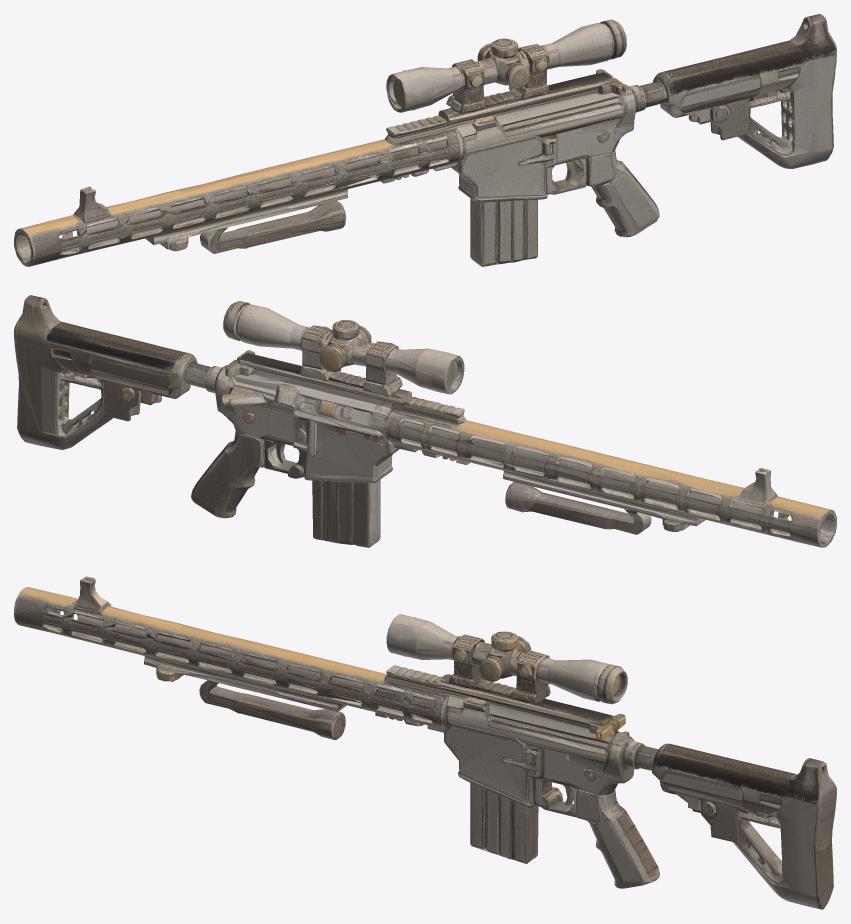
The model's file is marking_rifle.glb.
3 views of the same model, one above another, from view 1: azimuth 30°, elevation 25°; view 2: azimuth 150°, elevation 25°; view 3: azimuth 330°, elevation 25° (orthographic).
Visible parts, largest first — view 1: mesh_node; view 2: mesh_node; view 3: mesh_node.
Boxes of the visible parts, <box> form: mesh_node: <box>14,14,836,266</box>; mesh_node: <box>14,295,836,547</box>; mesh_node: <box>14,576,836,909</box>.
Size of the model in its own units: 1.9 by 0.4974 by 0.1486.
1 material, 1 textured.
